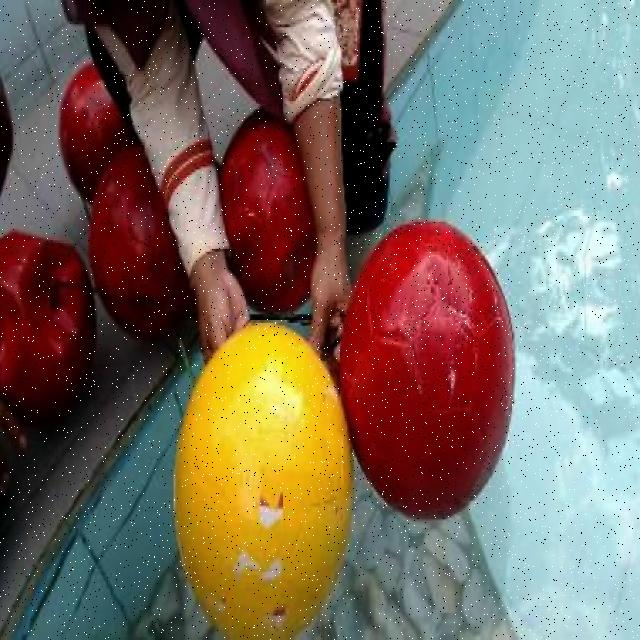buoy: (173, 320, 353, 637), (338, 220, 517, 524), (219, 107, 316, 314), (87, 146, 190, 340), (0, 228, 95, 428), (59, 62, 130, 201)
